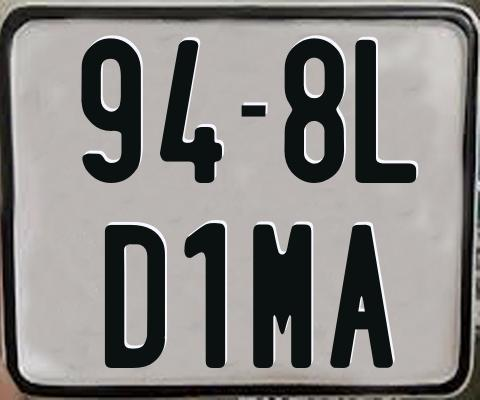1: (183, 222, 226, 370)
4: (160, 37, 222, 183)
8: (284, 37, 345, 188)
9: (80, 36, 140, 181)
A: (329, 224, 397, 367)
D: (104, 225, 166, 371)
L: (352, 40, 417, 183)
M: (251, 225, 315, 374)
